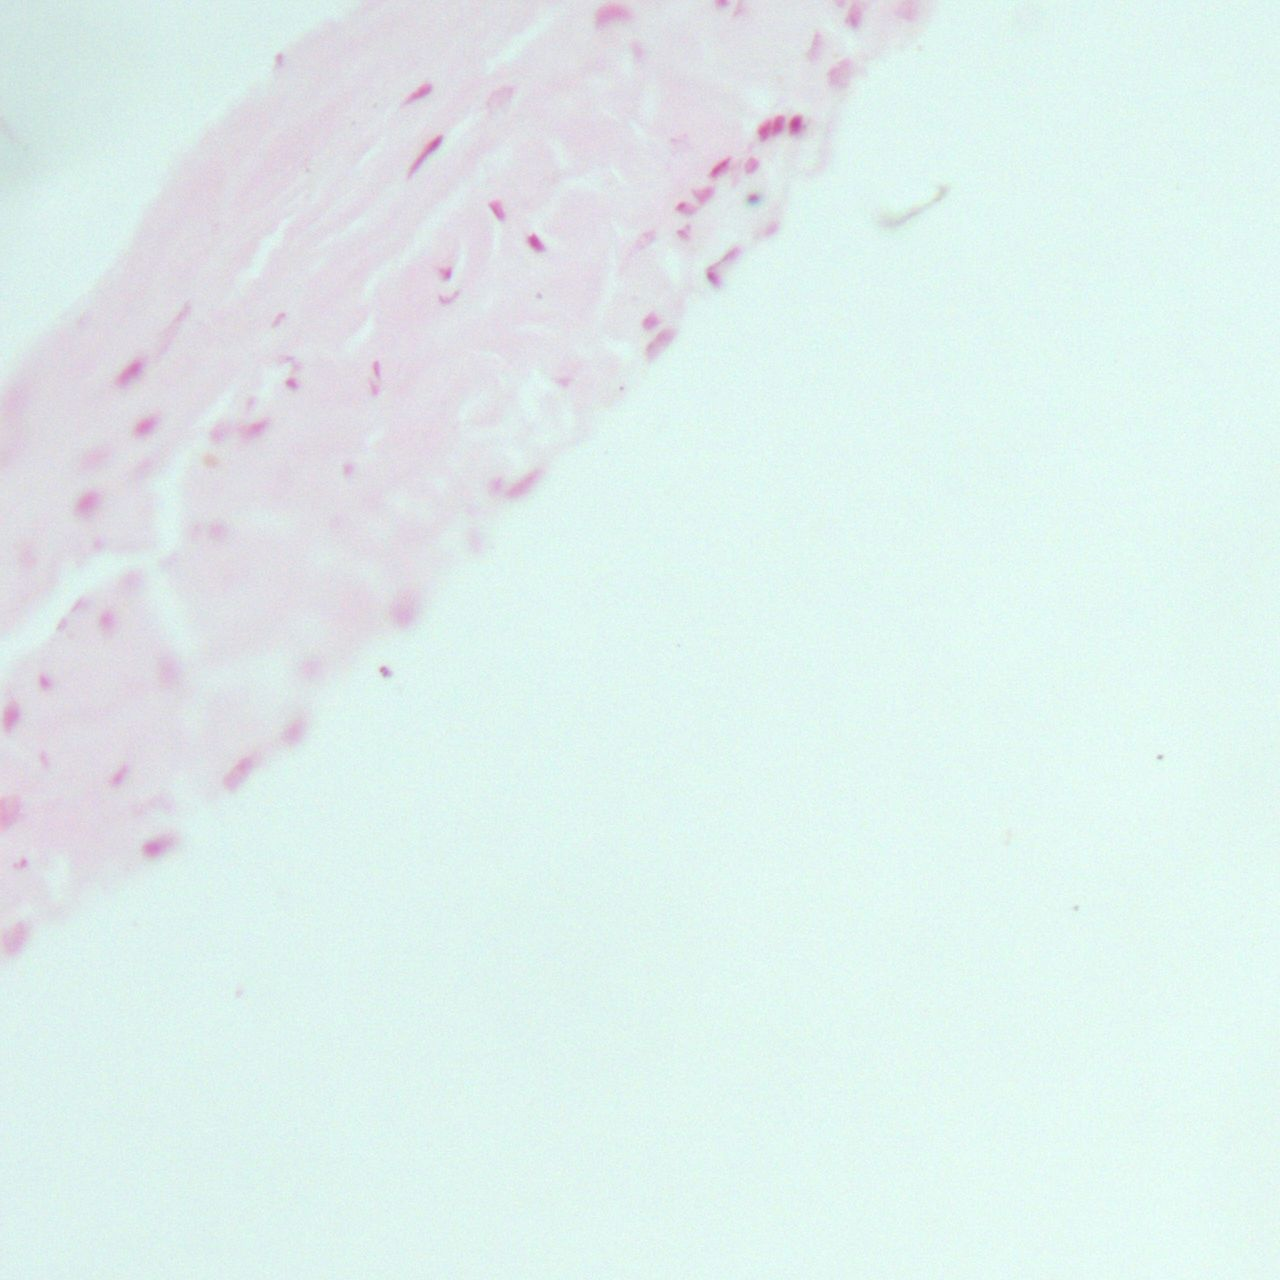dust: (1155, 753, 1165, 761), (1073, 905, 1082, 912)
nucleus-AC: (402, 130, 448, 181), (501, 464, 547, 506), (222, 753, 263, 791), (641, 324, 679, 362), (393, 80, 435, 113), (114, 358, 147, 390), (704, 245, 741, 274), (72, 488, 103, 520), (139, 830, 173, 860), (278, 719, 308, 750), (828, 57, 858, 88), (237, 417, 268, 445), (132, 411, 163, 440), (0, 795, 21, 833), (689, 179, 716, 207), (708, 155, 737, 181), (158, 659, 182, 690), (595, 1, 632, 21), (843, 0, 867, 27), (4, 925, 27, 953), (121, 572, 147, 597), (486, 196, 511, 222), (2, 702, 21, 735), (107, 765, 131, 790), (525, 233, 547, 256), (66, 594, 88, 615), (437, 287, 462, 306), (675, 200, 700, 218), (268, 309, 287, 331), (805, 34, 822, 57), (132, 458, 154, 476), (789, 114, 805, 136), (756, 118, 772, 139), (397, 602, 411, 626), (98, 612, 114, 633), (209, 523, 226, 540), (742, 156, 760, 173), (762, 220, 779, 238), (772, 114, 785, 137), (706, 271, 721, 290), (552, 377, 576, 389), (39, 751, 52, 772), (642, 313, 660, 328), (486, 475, 501, 493), (629, 41, 644, 57), (372, 358, 382, 377), (38, 674, 52, 688), (377, 665, 393, 678), (210, 428, 225, 441), (367, 379, 377, 396), (438, 268, 451, 282), (271, 52, 285, 64), (286, 377, 299, 390), (343, 465, 356, 477), (245, 397, 256, 411), (678, 229, 689, 240), (745, 195, 757, 205), (16, 859, 28, 869), (535, 291, 545, 298)
